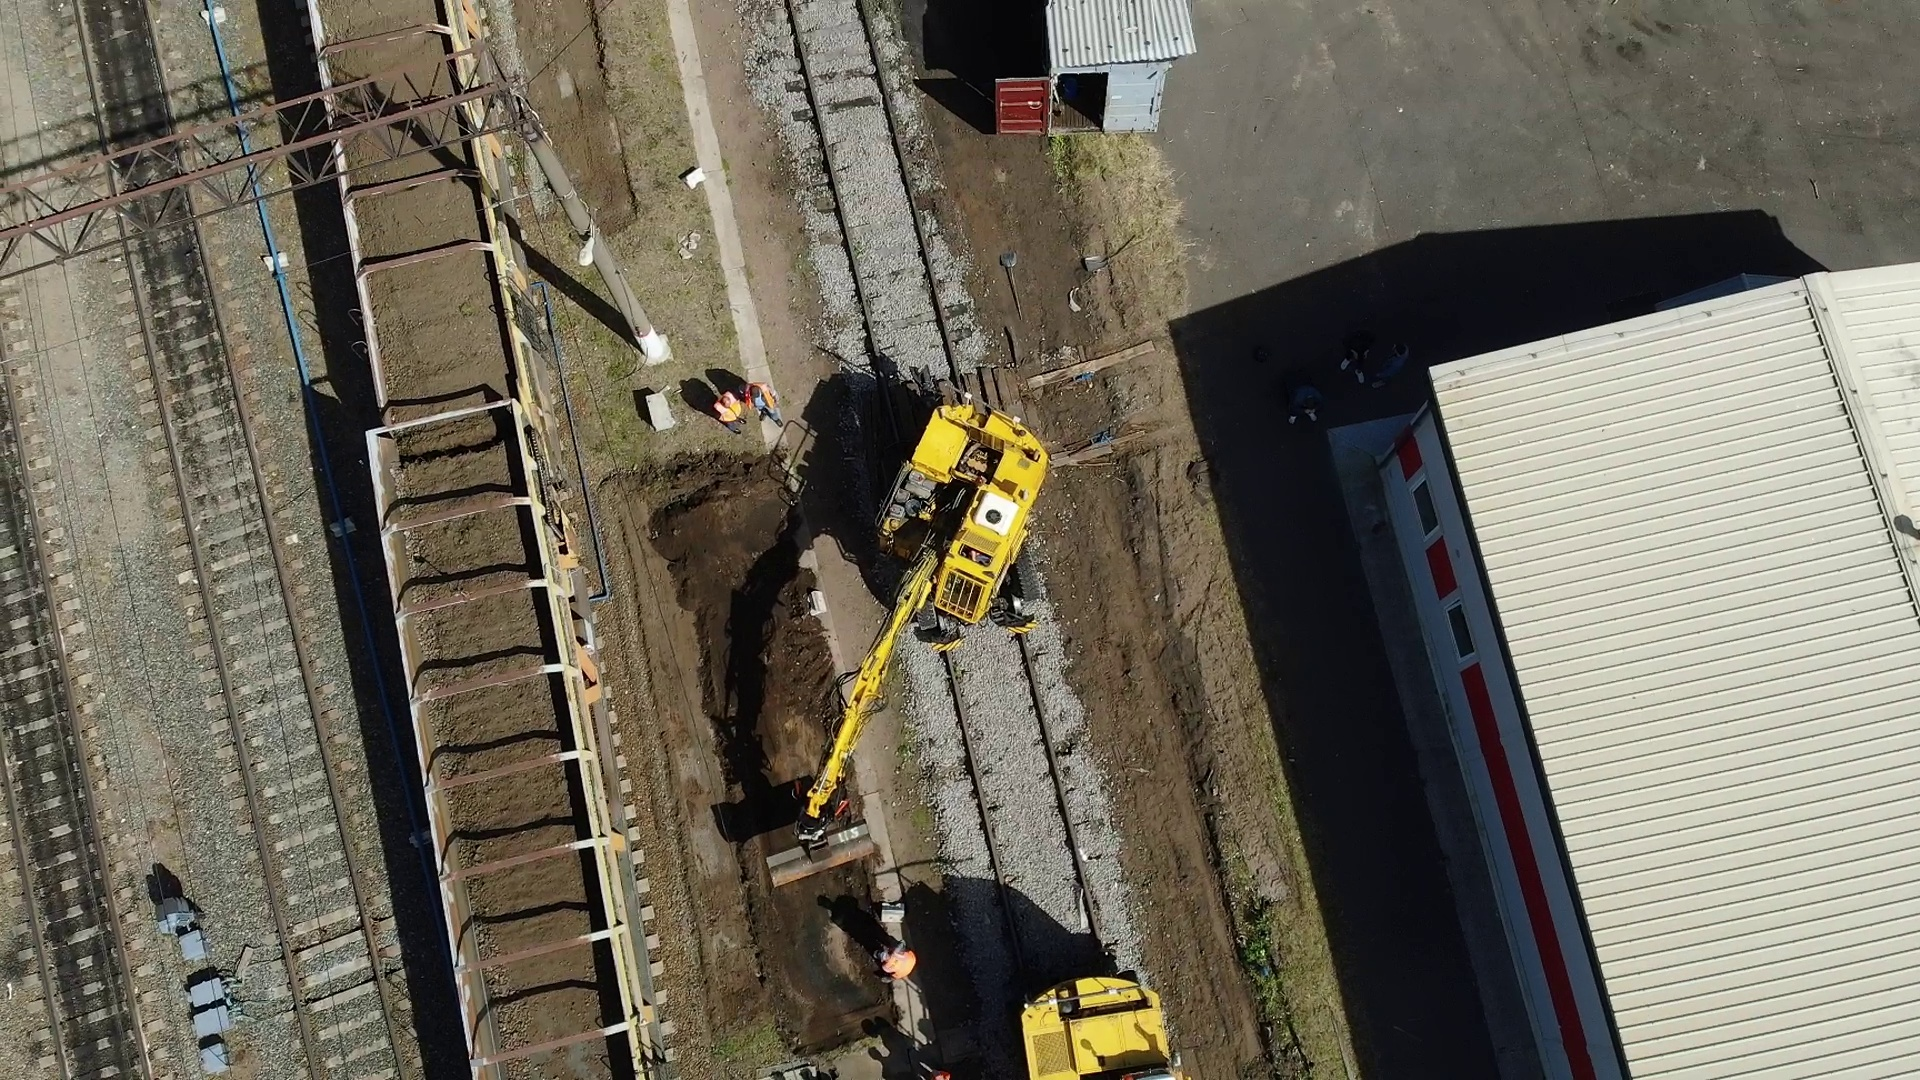kjtv: (872, 414, 1076, 671)
